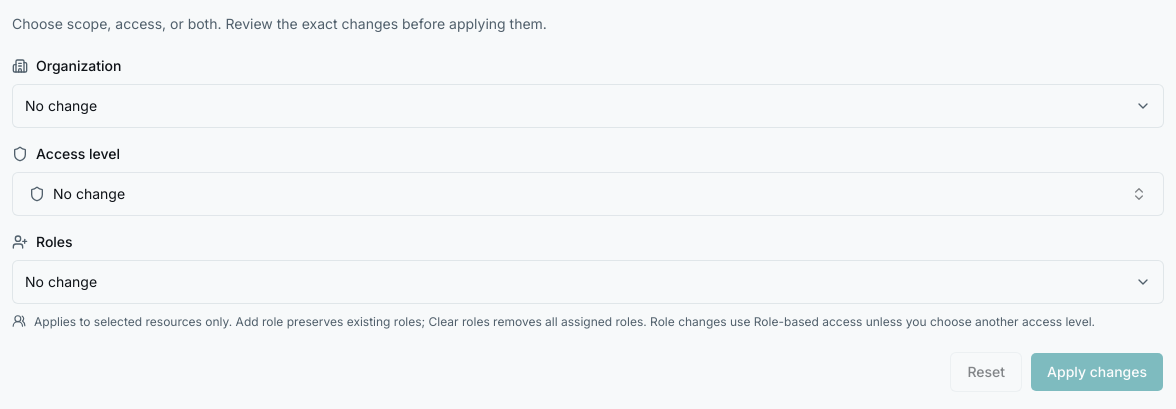
Test case: does not treat an incomplete role add as an access change
Click the dropdown named "Roles change" at (61, 282), box [12, 260, 1164, 304]
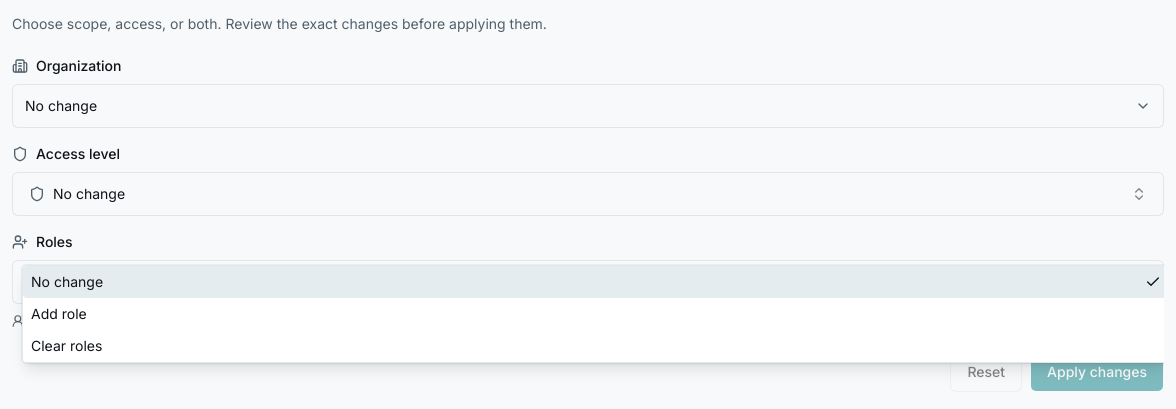
Click the option "Add role" at (59, 314), box [31, 305, 87, 322]
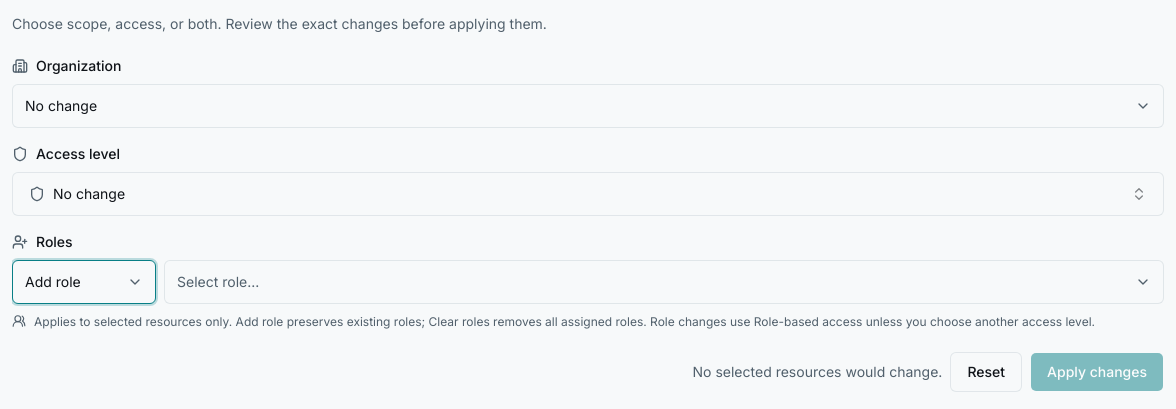
Expected: the button "Apply changes" is disabled, [1030, 352, 1164, 392]
Now the text "No selected resources would change." is shown, box [692, 362, 942, 382]
